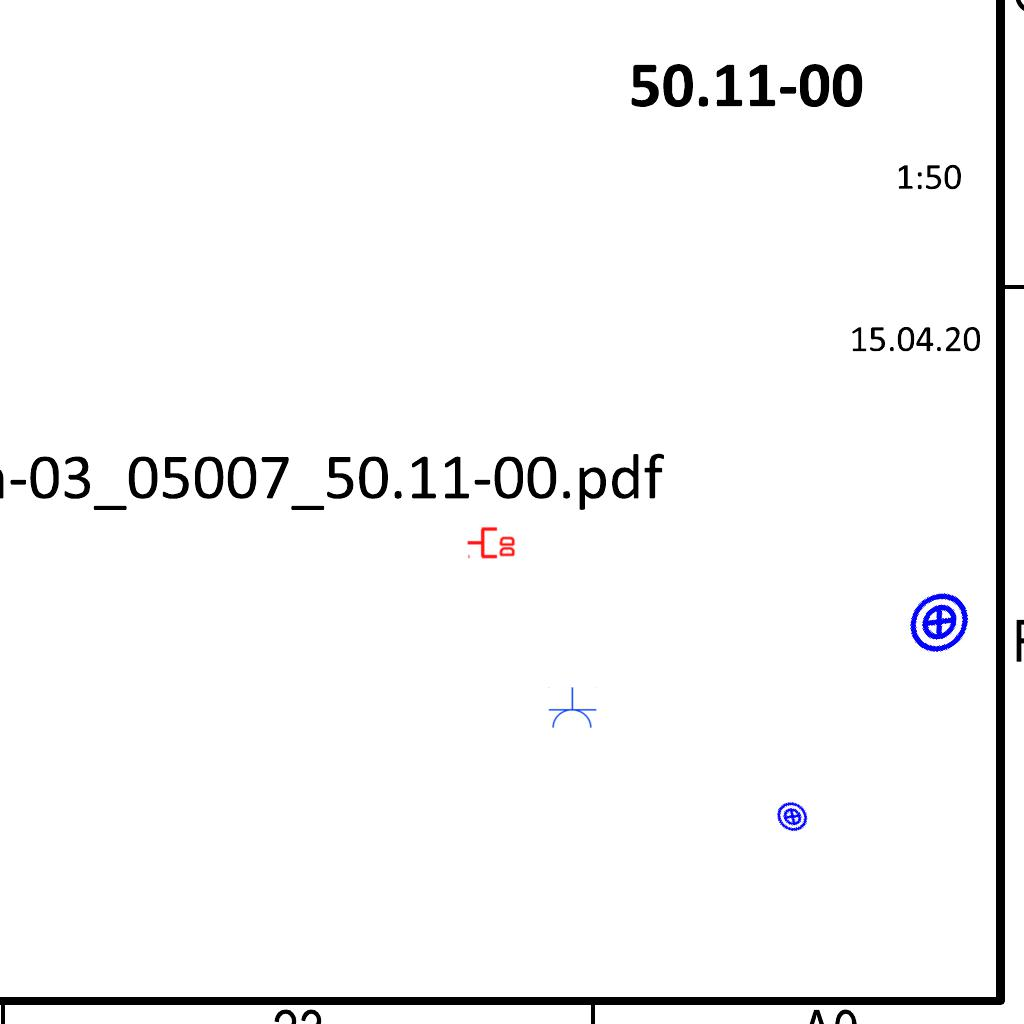Datenanschluss_zweifach: (466, 525, 517, 559)
Schukosteckdose_einfach: (547, 687, 597, 730)
Taster_beleuchtet: (892, 575, 986, 669), (769, 793, 816, 840)
